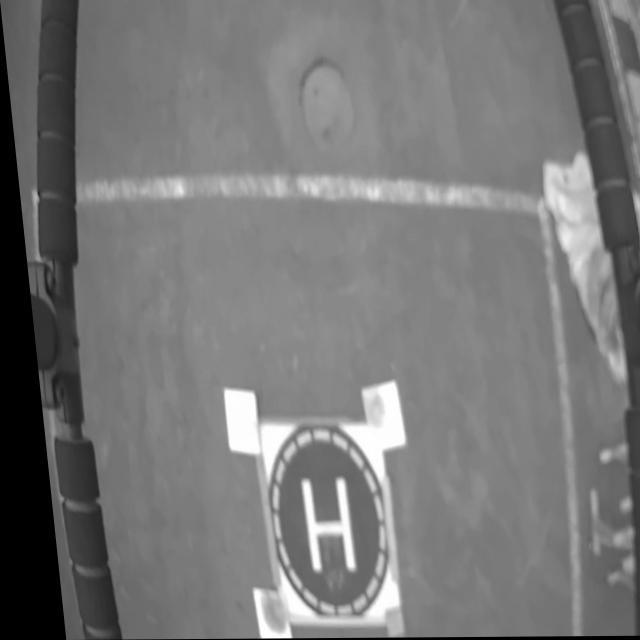Helipad: (290, 475, 345, 571)
